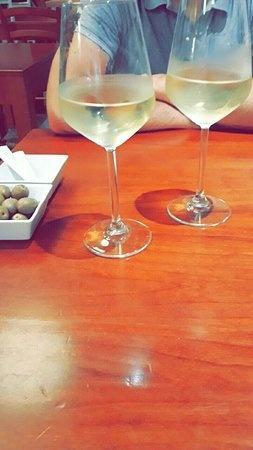glass-wine: (54, 0, 159, 259), (160, 0, 252, 230)
